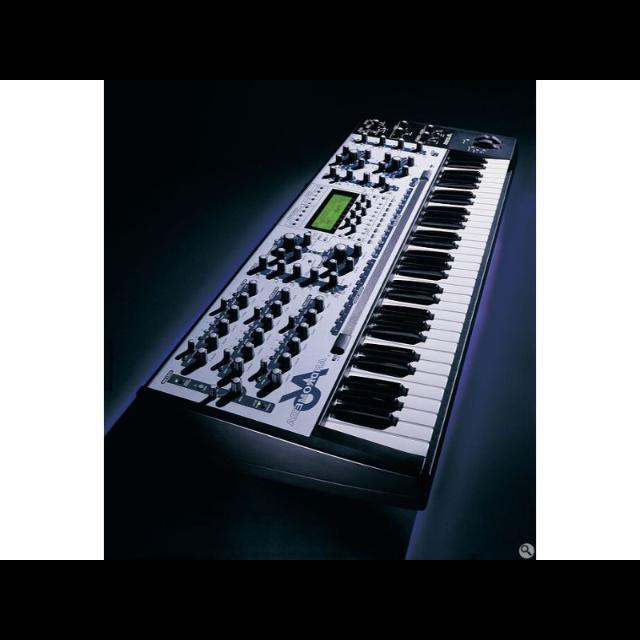Electronic-Keyboard: (130, 108, 518, 502)
